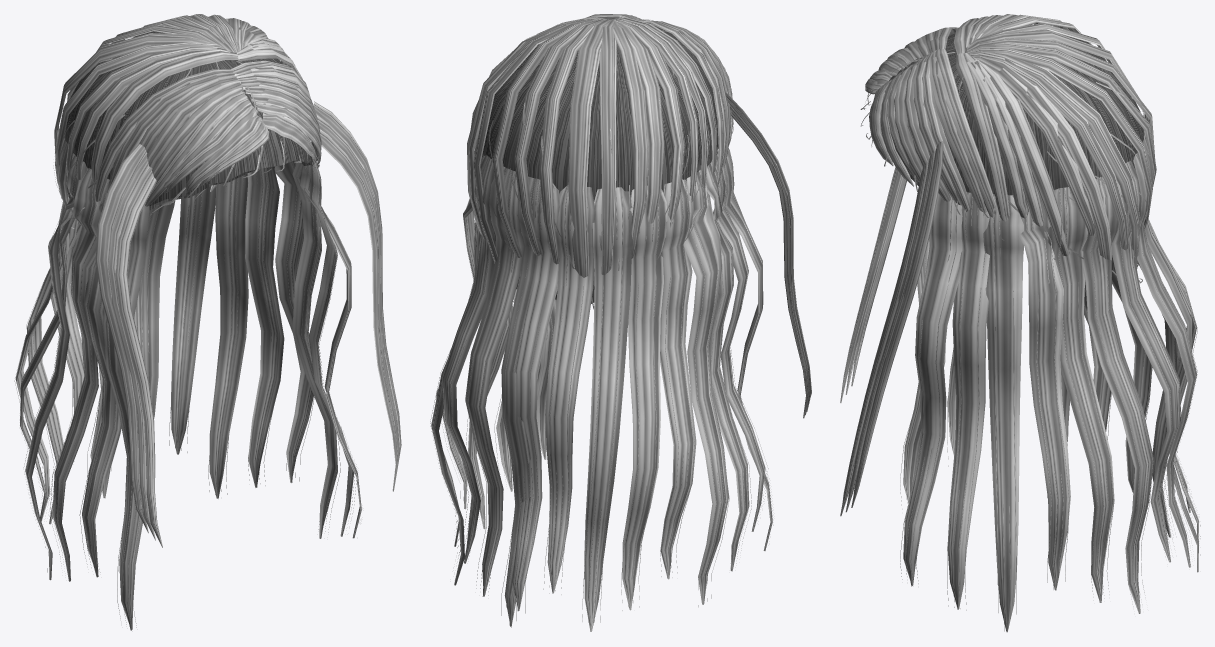
File: unified_m_long.glb
3 renders of one model, left to right at view 1: azimuth 30°, elevation 25°; view 2: azimuth 150°, elevation 25°; view 3: azimuth 270°, elevation 25°, orthographic.
Parts seen in each view (by area): view 1: Hair_directional_locks, Hair_face_framing_lock, Hair_wavy_layer.014, Hair_wavy_layer.013, Hair_wavy_layer.015, Hair_wavy_layer.002, Hair_face_framing_lock.001, Hair_scalp, Hair_wavy_layer, Hair_wavy_layer.011, Hair_wavy_layer.012, Hair_wavy_layer.001 (+14 smaller); view 2: Hair_directional_locks, Hair_wavy_layer.006, Hair_scalp, Hair_wavy_layer.005, Hair_wavy_layer.007, Hair_wavy_layer.003, Hair_wavy_layer.004, Hair_wavy_layer.016, Hair_wavy_layer.008, Hair_wavy_layer.017, Hair_wavy_layer.015, Hair_wavy_layer.002 (+19 smaller); view 3: Hair_directional_locks, Hair_wavy_layer.011, Hair_wavy_layer.010, Hair_wavy_layer.009, Hair_wavy_layer.012, Hair_wavy_layer.013, Hair_wavy_layer.014, Hair_face_framing_lock.001, Hair_wavy_layer.015, Hair_scalp, Hair_wavy_layer.016, Hair_face_framing_lock (+15 smaller).
Boxes of the visible parts, box(x1,y1,x2,y2) form: Hair_directional_locks: box(54, 14, 321, 206); Hair_face_framing_lock: box(95, 143, 162, 547); Hair_wavy_layer.014: box(209, 173, 248, 498); Hair_wavy_layer.013: box(245, 166, 284, 487); Hair_wavy_layer.015: box(171, 186, 216, 454); Hair_wavy_layer.002: box(52, 168, 106, 581); Hair_face_framing_lock.001: box(313, 101, 401, 491); Hair_scalp: box(64, 31, 312, 209); Hair_wavy_layer: box(103, 205, 149, 630); Hair_wavy_layer.011: box(292, 160, 337, 538); Hair_wavy_layer.012: box(274, 160, 313, 482); Hair_wavy_layer.001: box(82, 178, 120, 577); Hair_directional_locks: box(467, 14, 733, 277); Hair_wavy_layer.006: box(584, 187, 632, 631); Hair_scalp: box(482, 27, 718, 303); Hair_wavy_layer.005: box(622, 185, 667, 610); Hair_wavy_layer.007: box(545, 185, 594, 593); Hair_wavy_layer.003: box(683, 170, 728, 604); Hair_wavy_layer.004: box(660, 179, 696, 579); Hair_wavy_layer.016: box(465, 167, 524, 596); Hair_wavy_layer.008: box(512, 180, 559, 611); Hair_wavy_layer.017: box(501, 176, 542, 626); Hair_wavy_layer.015: box(442, 154, 495, 563); Hair_wavy_layer.002: box(705, 160, 749, 571); Hair_directional_locks: box(865, 14, 1156, 268); Hair_wavy_layer.011: box(983, 194, 1023, 632); Hair_wavy_layer.010: box(947, 192, 989, 609); Hair_wavy_layer.009: box(903, 193, 963, 586); Hair_wavy_layer.012: box(1018, 196, 1070, 590); Hair_wavy_layer.013: box(1048, 187, 1114, 602); Hair_wavy_layer.014: box(1081, 176, 1153, 613); Hair_face_framing_lock.001: box(840, 141, 943, 516); Hair_wavy_layer.015: box(1111, 160, 1180, 562); Hair_scalp: box(869, 24, 1144, 273); Hair_wavy_layer.016: box(1133, 152, 1196, 567); Hair_face_framing_lock: box(840, 167, 906, 402).
Bounding box in the file's own units: 0.1286 × 0.228 × 0.1379.
Materials: 2 (2 with a texture image).
